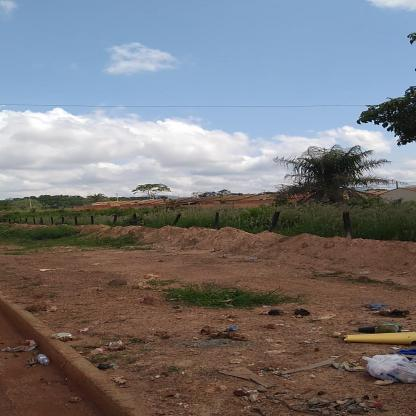lixo: (338, 308, 415, 377)
